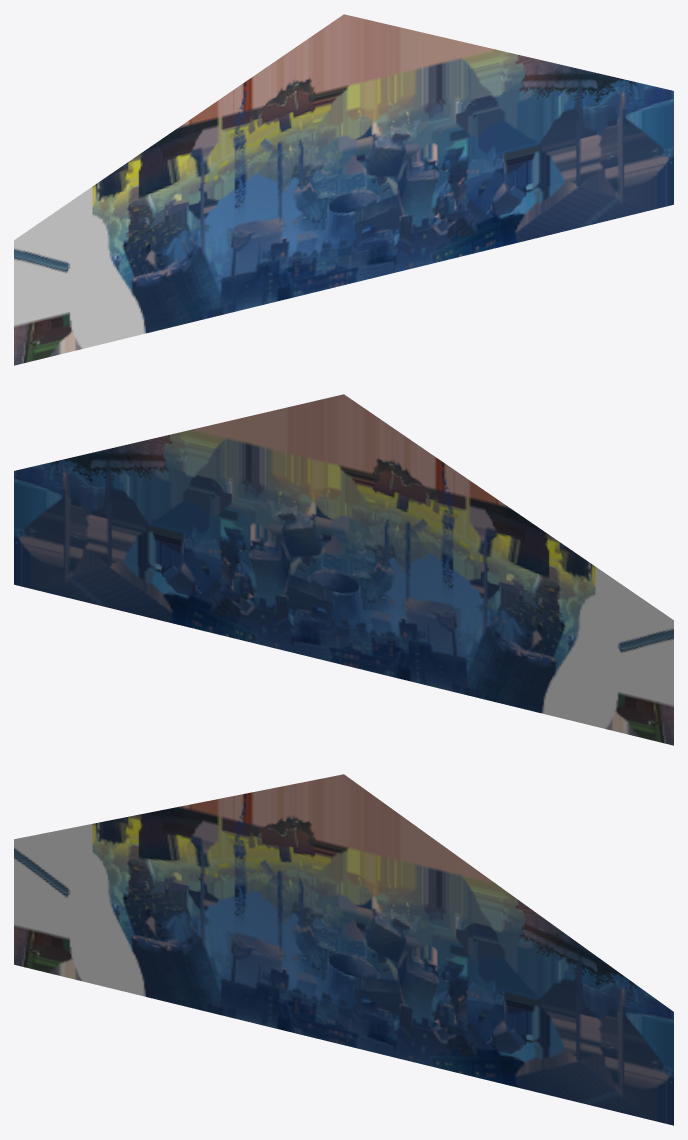
File: SceneBattle03_BG03_fbx.FBX
The picture shows the model from 3 angles, top to bottom: view 1: azimuth 30°, elevation 25°; view 2: azimuth 150°, elevation 25°; view 3: azimuth 330°, elevation 25°; orthographic projection.
Visible parts, largest first — view 1: SceneBattle03_BG03_fbx; view 2: SceneBattle03_BG03_fbx; view 3: SceneBattle03_BG03_fbx.
Part boxes in pixels (left/top/right/bottom): SceneBattle03_BG03_fbx: left=14, top=14, right=673, bottom=365; SceneBattle03_BG03_fbx: left=14, top=394, right=673, bottom=745; SceneBattle03_BG03_fbx: left=14, top=774, right=673, bottom=1125.
Bounding box in the file's own units: 7.7 × 3.02 × 4.71e-06.
1 material, 1 textured.
